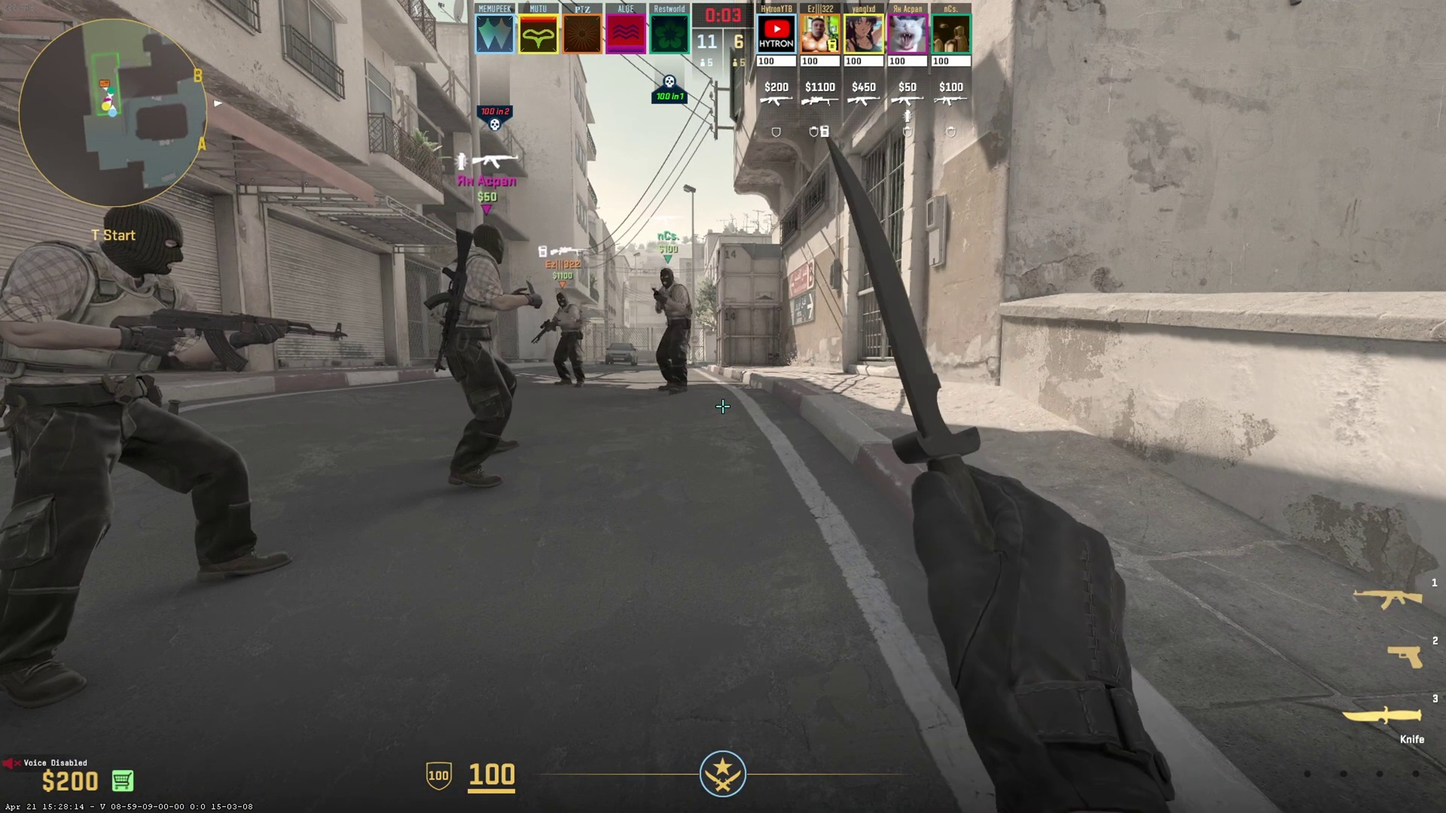Terrorist: (0, 206, 250, 705), (438, 223, 517, 490), (655, 269, 691, 395), (546, 292, 585, 389)
